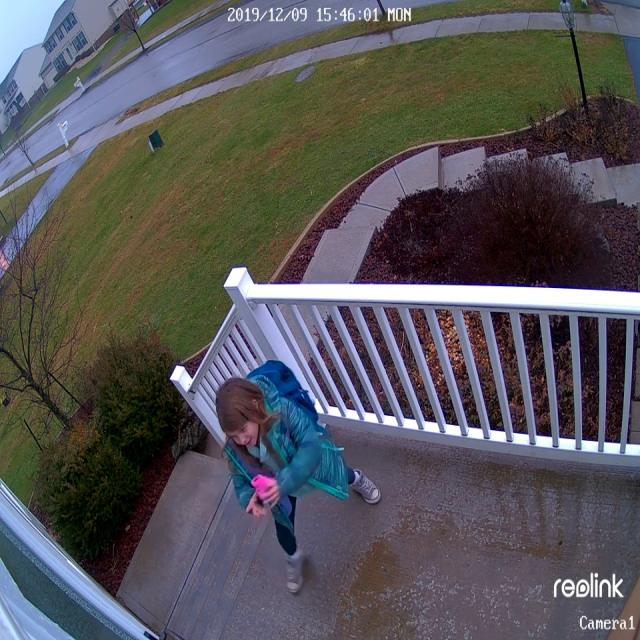child: (208, 359, 384, 592)
